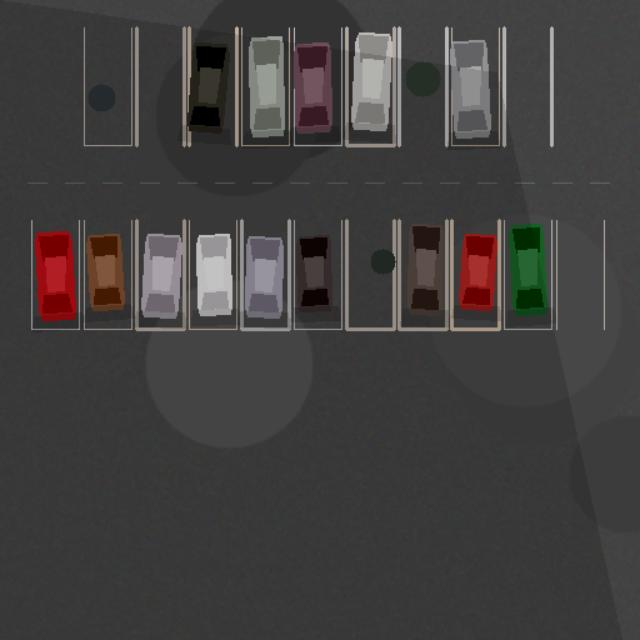space-empty: (136, 28, 184, 145), (84, 28, 131, 145), (399, 28, 446, 145), (504, 28, 551, 145), (346, 220, 394, 329), (556, 220, 604, 329)
space-occupied: (241, 28, 289, 145), (346, 28, 394, 145), (451, 28, 499, 145), (189, 28, 236, 145), (294, 28, 341, 145), (31, 220, 79, 329), (136, 220, 184, 329), (241, 220, 289, 329), (451, 220, 499, 329), (84, 220, 131, 329), (189, 220, 236, 329), (294, 220, 341, 329), (399, 220, 446, 329), (504, 220, 551, 329)
